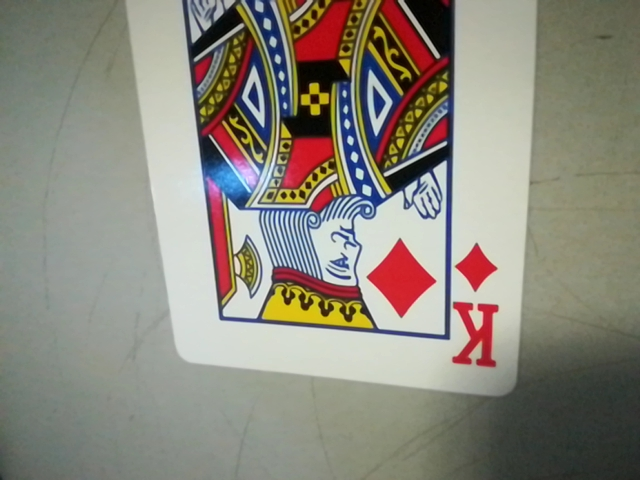fk k: (443, 236, 513, 376)
